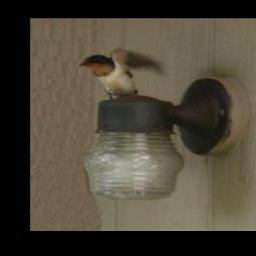Swallow: (79, 47, 166, 99)
